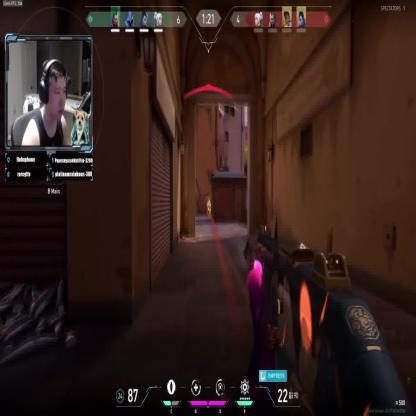enemy: (207, 200, 211, 218)
enemy_head: (208, 200, 210, 204)
